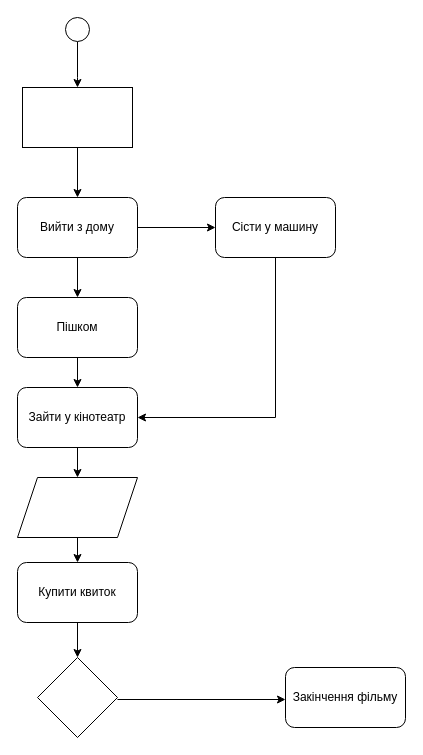
This 423x755 diagram has some shape labels left out. Here are the shapes that lost their labels. From the top down, the box of each, then its label:
(22, 86, 132, 148): Знайти кінотеатр
(16, 476, 138, 538): Обрати Фільм
(36, 656, 118, 738): Фільм
